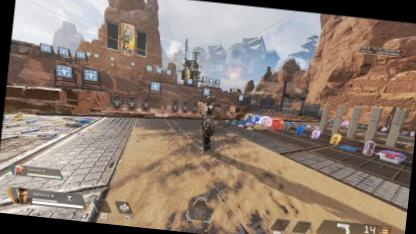Target: (196, 95, 218, 155)
